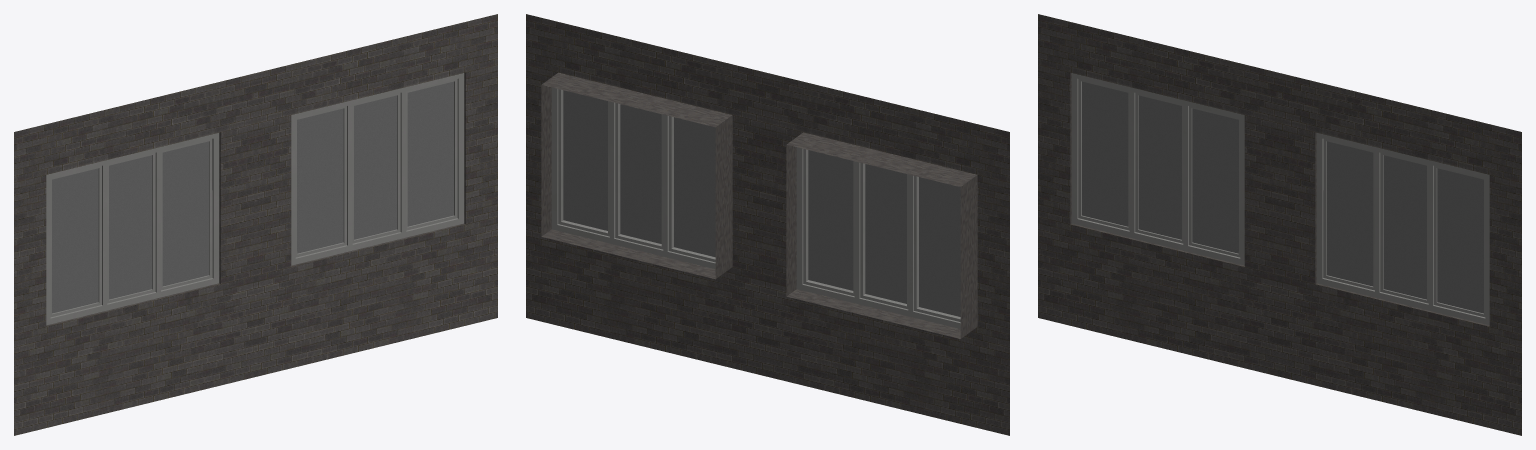
File: Sm_Window06.fbx
3 views of the same model, side by side, from view 1: azimuth 30°, elevation 25°; view 2: azimuth 150°, elevation 25°; view 3: azimuth 330°, elevation 25° (orthographic).
Visible parts, largest first — view 1: Sm_Window06; view 2: Sm_Window06; view 3: Sm_Window06.
Boxes of the visible parts, bbox=[...] form: Sm_Window06: bbox=[14, 14, 497, 435]; Sm_Window06: bbox=[526, 14, 1009, 435]; Sm_Window06: bbox=[1038, 14, 1521, 435].
Bounding box in the file's own units: 500 × 30.37 × 300.
Materials: 3 (3 with a texture image).
